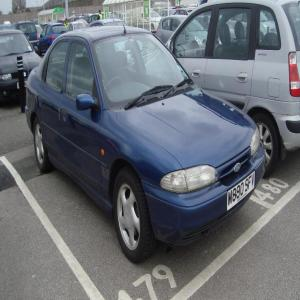Vehicle-registration-plate: (228, 174, 256, 211), (18, 80, 27, 89)
